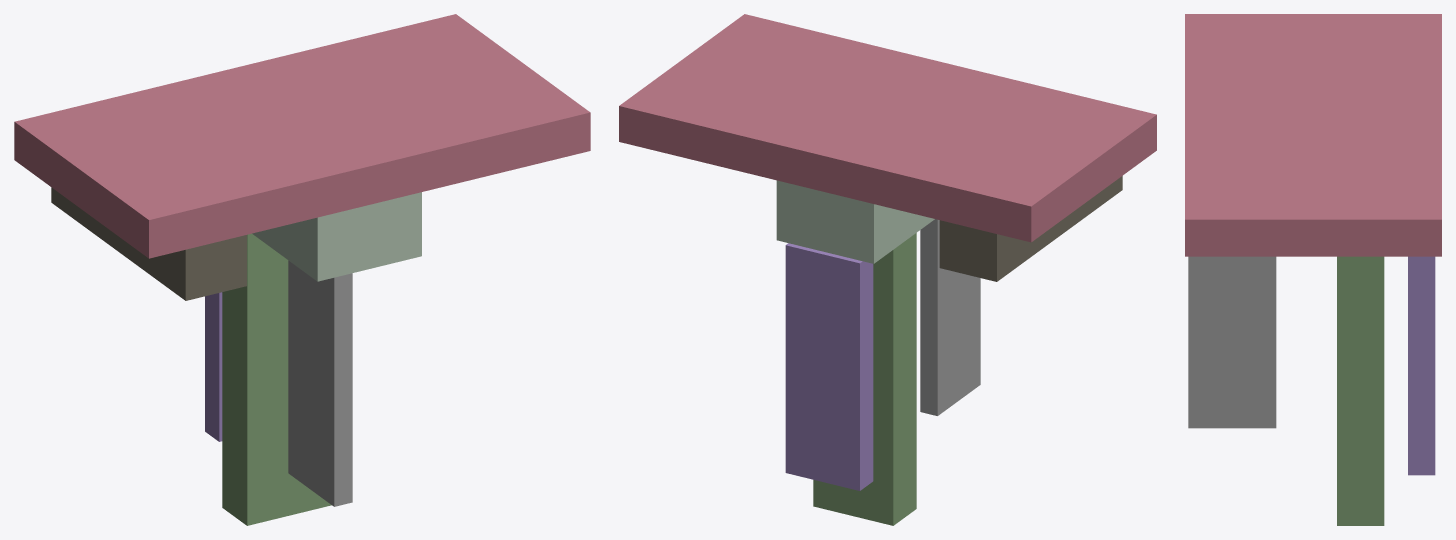
The picture shows the model from 3 angles, left to right: view 1: azimuth 30°, elevation 25°; view 2: azimuth 150°, elevation 25°; view 3: azimuth 270°, elevation 25°; orthographic projection. The views are drawn at different scales.
Visible parts, largest first — view 1: world; view 2: world; view 3: world.
Part boxes in pixels (box(x1,y1,x2,y2)): world: box(14, 14, 590, 525); world: box(619, 14, 1156, 525); world: box(1185, 14, 1441, 525).
Size of the model in its own units: 7.2 by 6.35 by 3.8.
